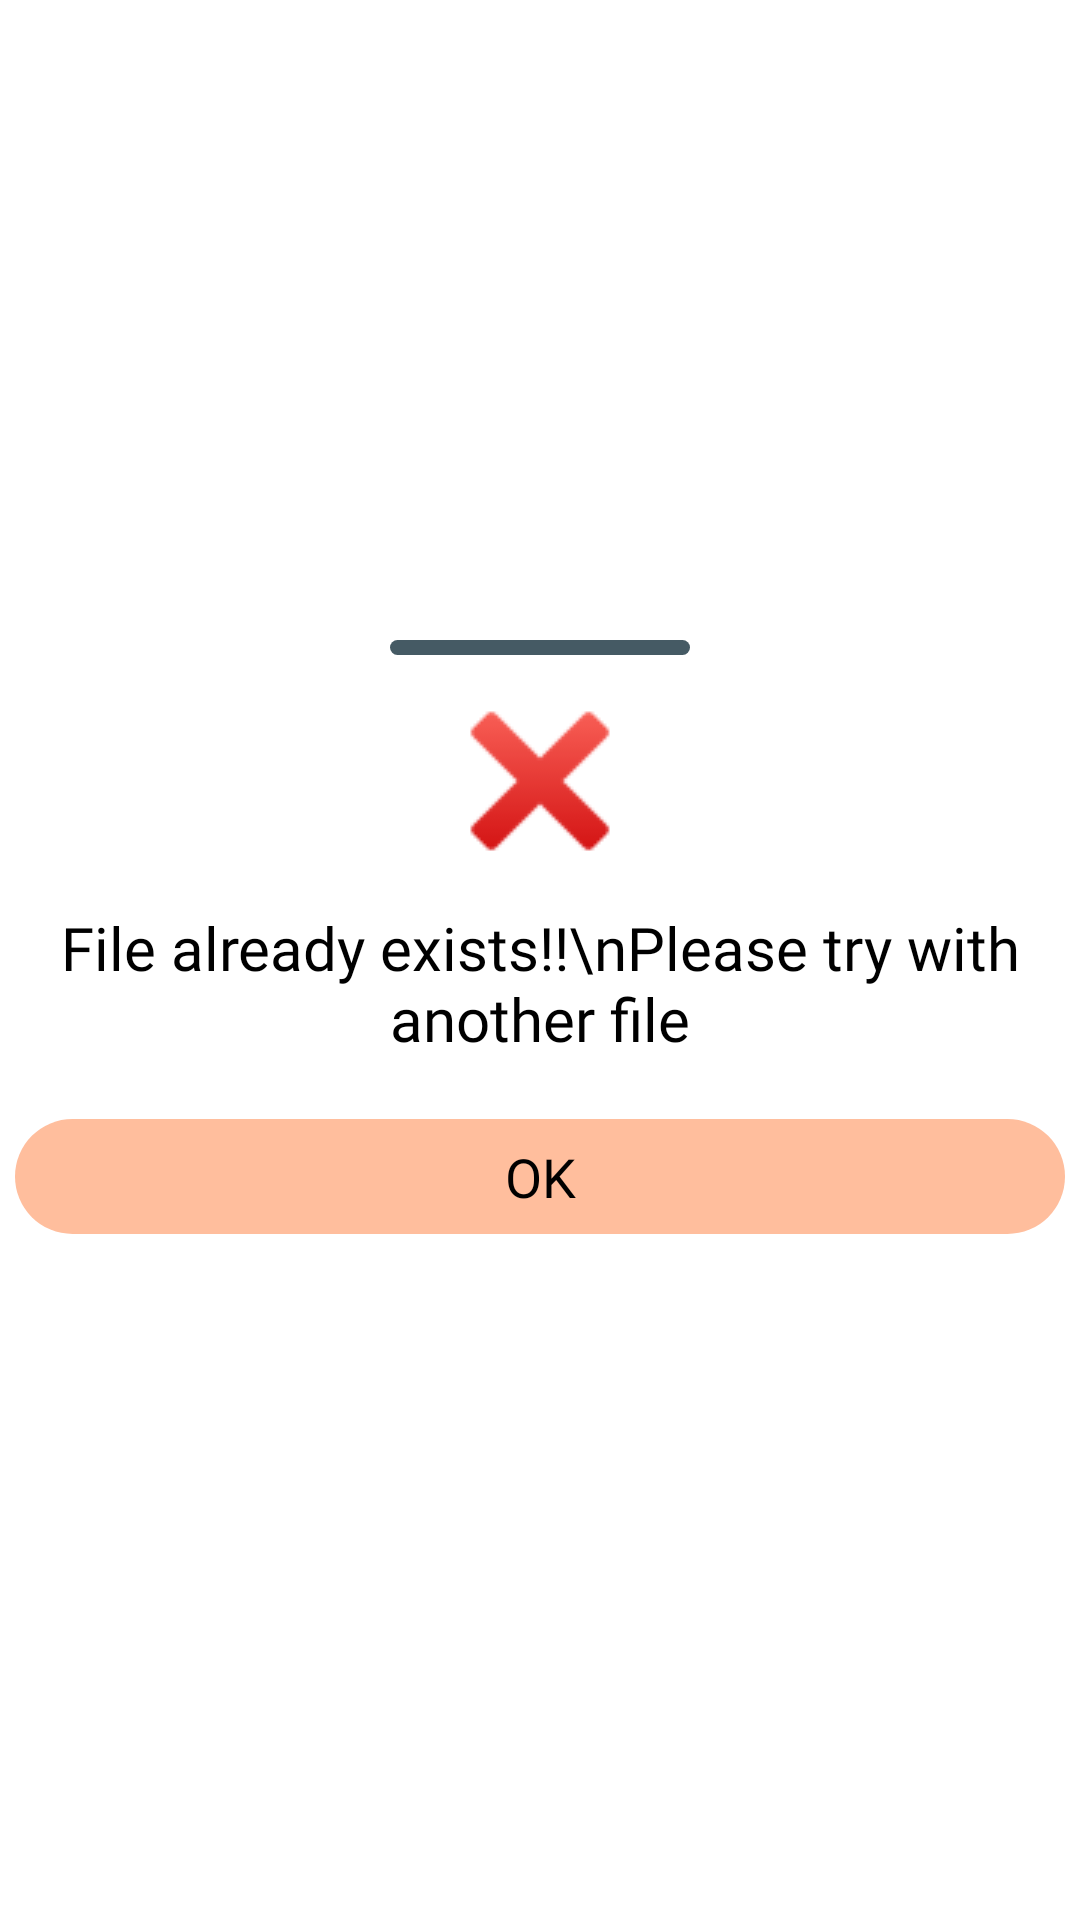

Locate icon controls on the screen. Image size 1080*1920, boxes as (x1, y1, x2, y2).
failed: (470, 711, 610, 851)
